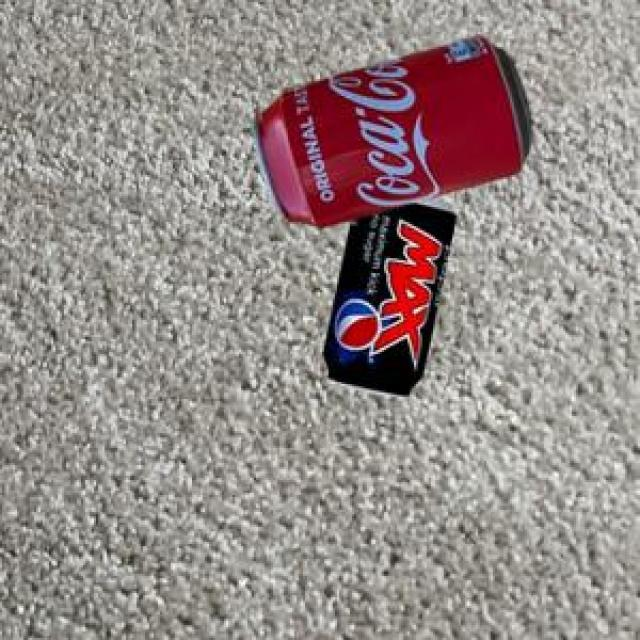Can: (251, 33, 528, 225), (321, 195, 453, 394)
